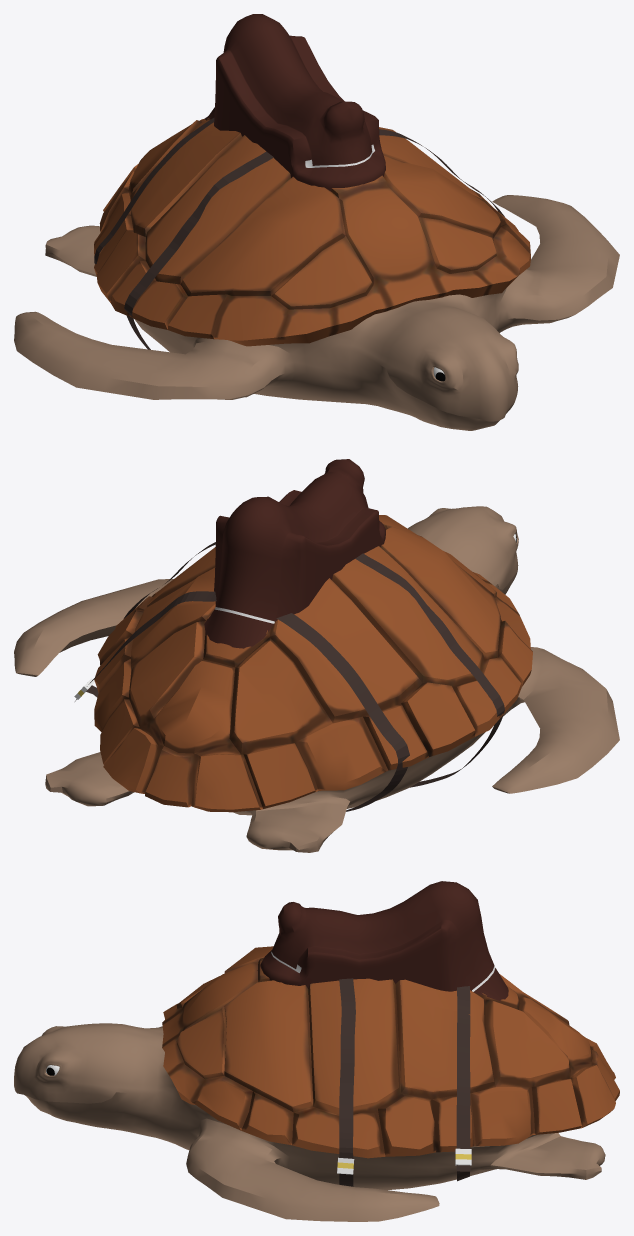
The model's file is Turtle.fbx.
3 views of the same model, one above another, from view 1: azimuth 30°, elevation 25°; view 2: azimuth 150°, elevation 25°; view 3: azimuth 270°, elevation 25° (orthographic). The views are drawn at different scales.
Visible parts, largest first — view 1: Tortios; view 2: Tortios; view 3: Tortios.
Boxes of the visible parts, left/top/right/bottom form: Tortios: left=14, top=14, right=619, bottom=430; Tortios: left=14, top=459, right=619, bottom=852; Tortios: left=14, top=881, right=619, bottom=1221.
Size of the model in its own units: 1166 by 631 by 1208.
